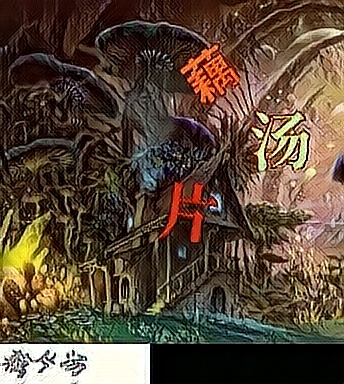C5BA: (179, 40, 242, 107)
C6AC: (157, 180, 220, 247)
CCC0: (249, 108, 312, 175)
